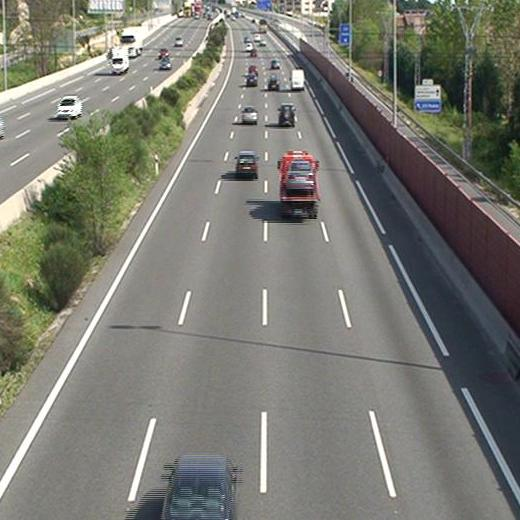car: (161, 455, 234, 520), (286, 162, 314, 190), (235, 150, 259, 175), (279, 103, 295, 128), (242, 105, 259, 123), (267, 76, 280, 90), (246, 75, 258, 87), (270, 58, 281, 69), (248, 64, 258, 74)
small-truck: (279, 153, 321, 211)
van: (291, 69, 305, 90)
